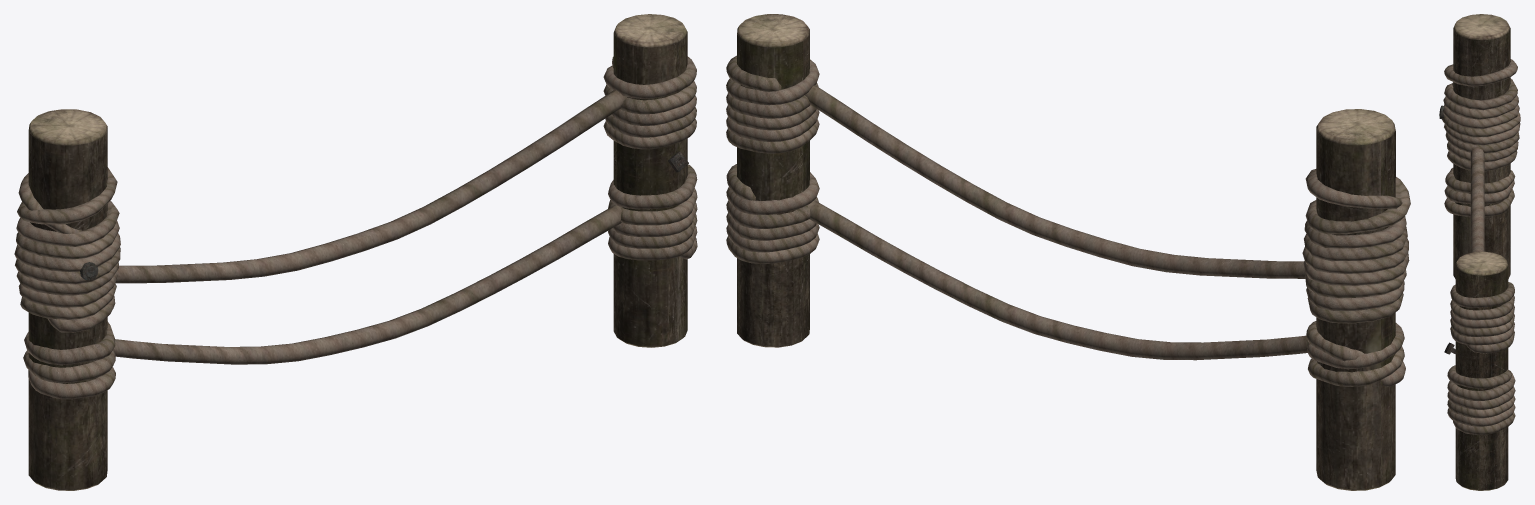
The model's file is rope_fence06.fbx.
The picture shows the model from 3 angles, left to right: view 1: azimuth 30°, elevation 25°; view 2: azimuth 150°, elevation 25°; view 3: azimuth 270°, elevation 25°; orthographic projection. The views are drawn at different scales.
Parts seen in each view (by area): view 1: rope_fence06; view 2: rope_fence06; view 3: rope_fence06.
Boxes of the visible parts, left/top/right/bottom form: rope_fence06: left=14, top=14, right=697, bottom=490; rope_fence06: left=726, top=14, right=1410, bottom=490; rope_fence06: left=1439, top=14, right=1520, bottom=490.
Bounding box in the file's own units: 292 × 145 × 42.6.
